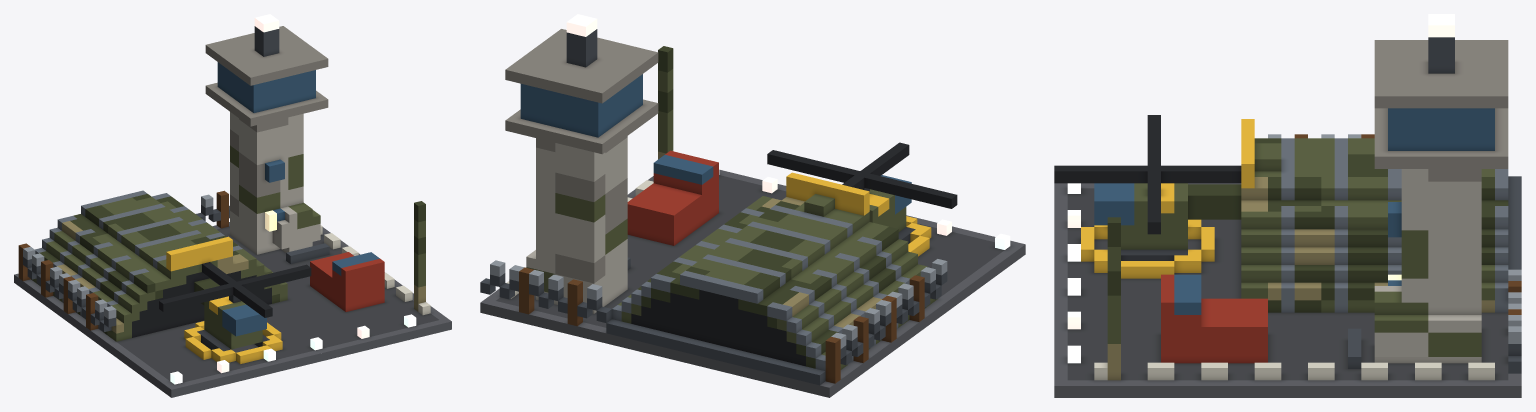
File: cm_airfield_2.glb
The picture shows the model from 3 angles, left to right: view 1: azimuth 30°, elevation 25°; view 2: azimuth 150°, elevation 25°; view 3: azimuth 270°, elevation 25°; orthographic projection. The views are drawn at different scales.
Visible parts, largest first — view 1: cm_airfield_2_body; view 2: cm_airfield_2_body; view 3: cm_airfield_2_body.
Part boxes in pixels (bbox=[...]): cm_airfield_2_body: bbox=[14, 14, 451, 397]; cm_airfield_2_body: bbox=[480, 14, 1025, 397]; cm_airfield_2_body: bbox=[1054, 14, 1521, 397].
Size of the model in its own units: 2.25 by 1.75 by 2.19.
1 material, 1 textured.
